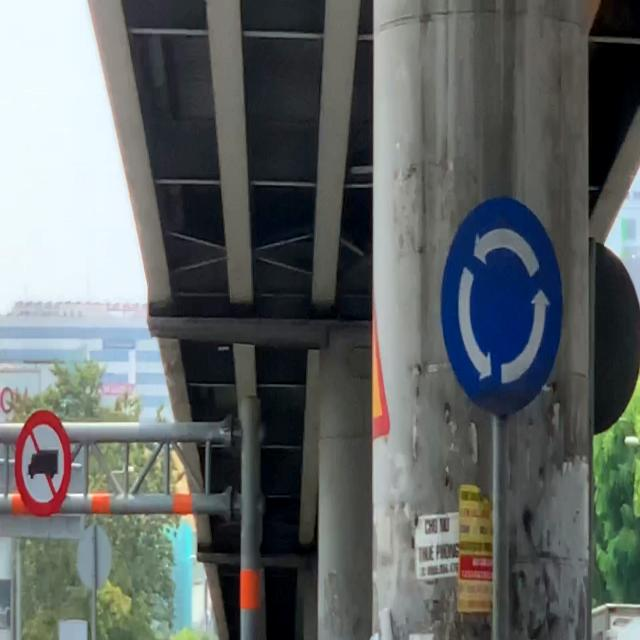P.106a: (14, 409, 72, 518)
R.303: (440, 195, 564, 418)
